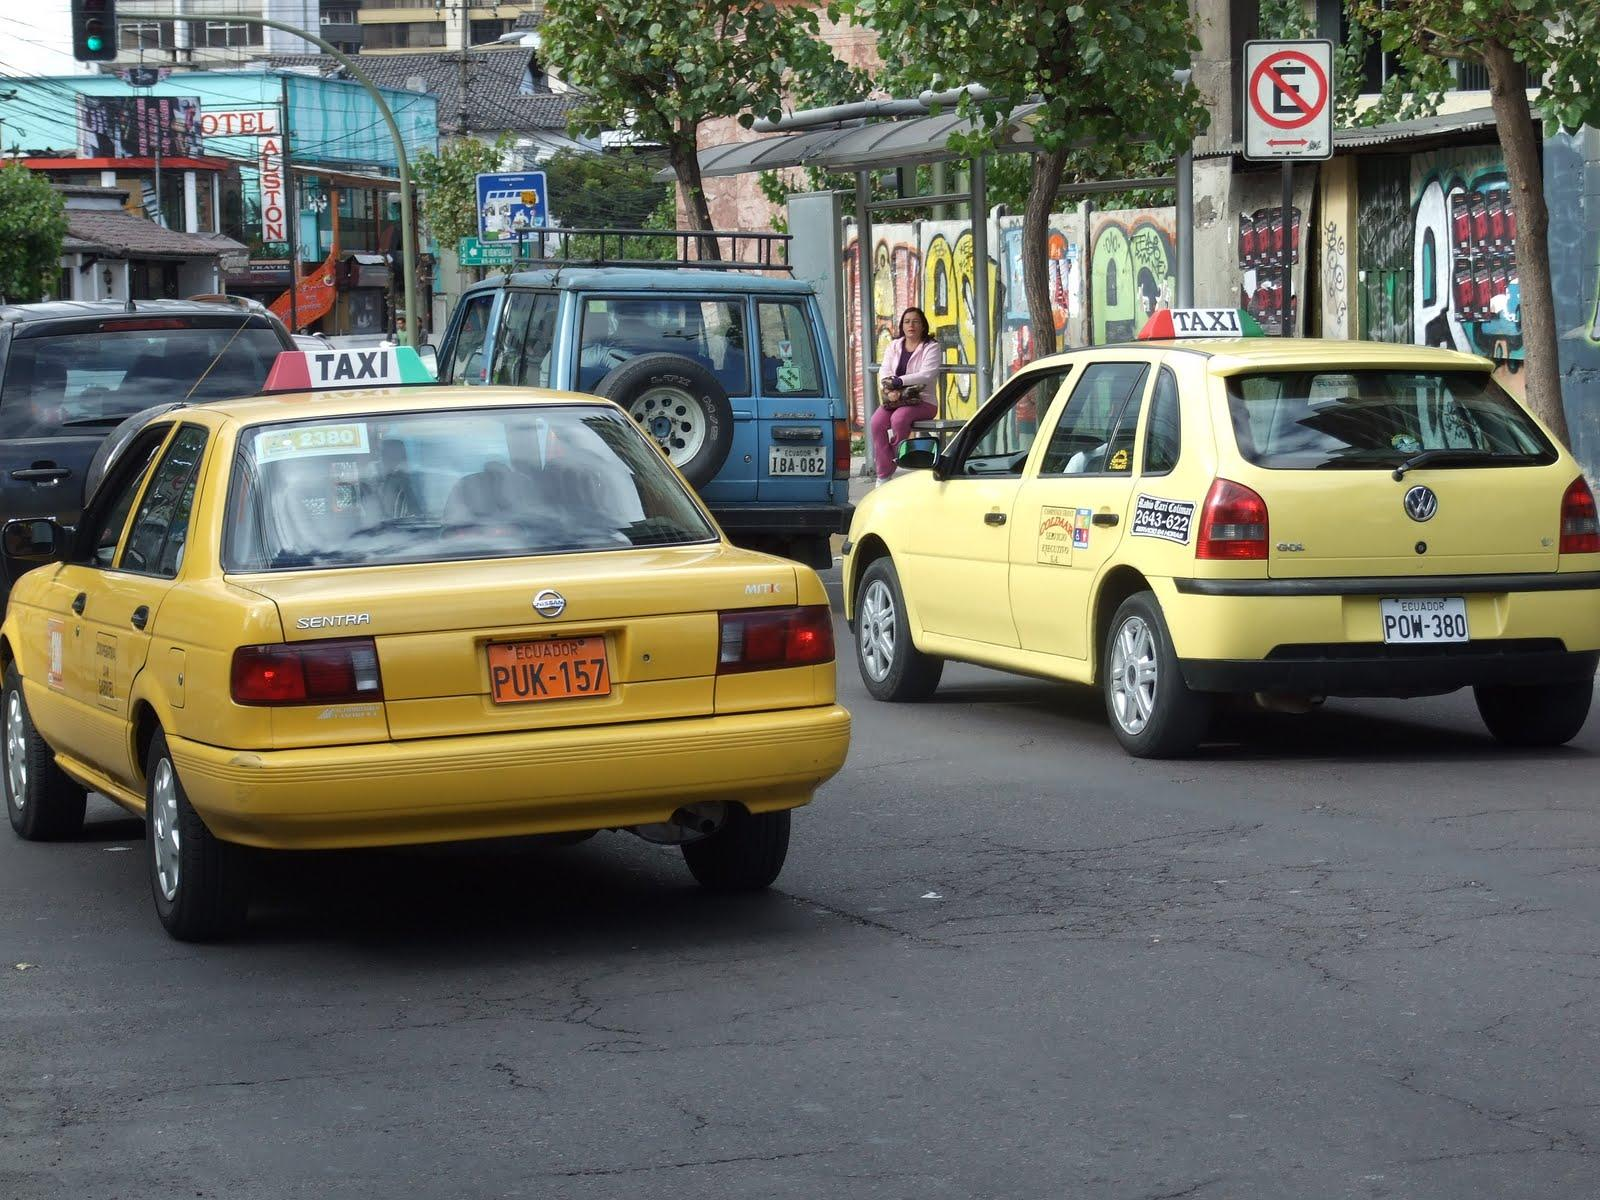taxi: (43, 323, 809, 926)
